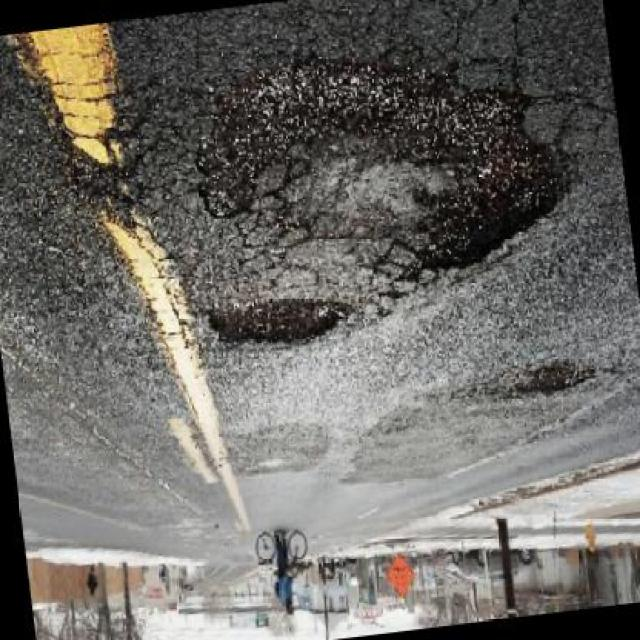pothole: (179, 27, 586, 316), (201, 290, 359, 361), (490, 357, 598, 408)
